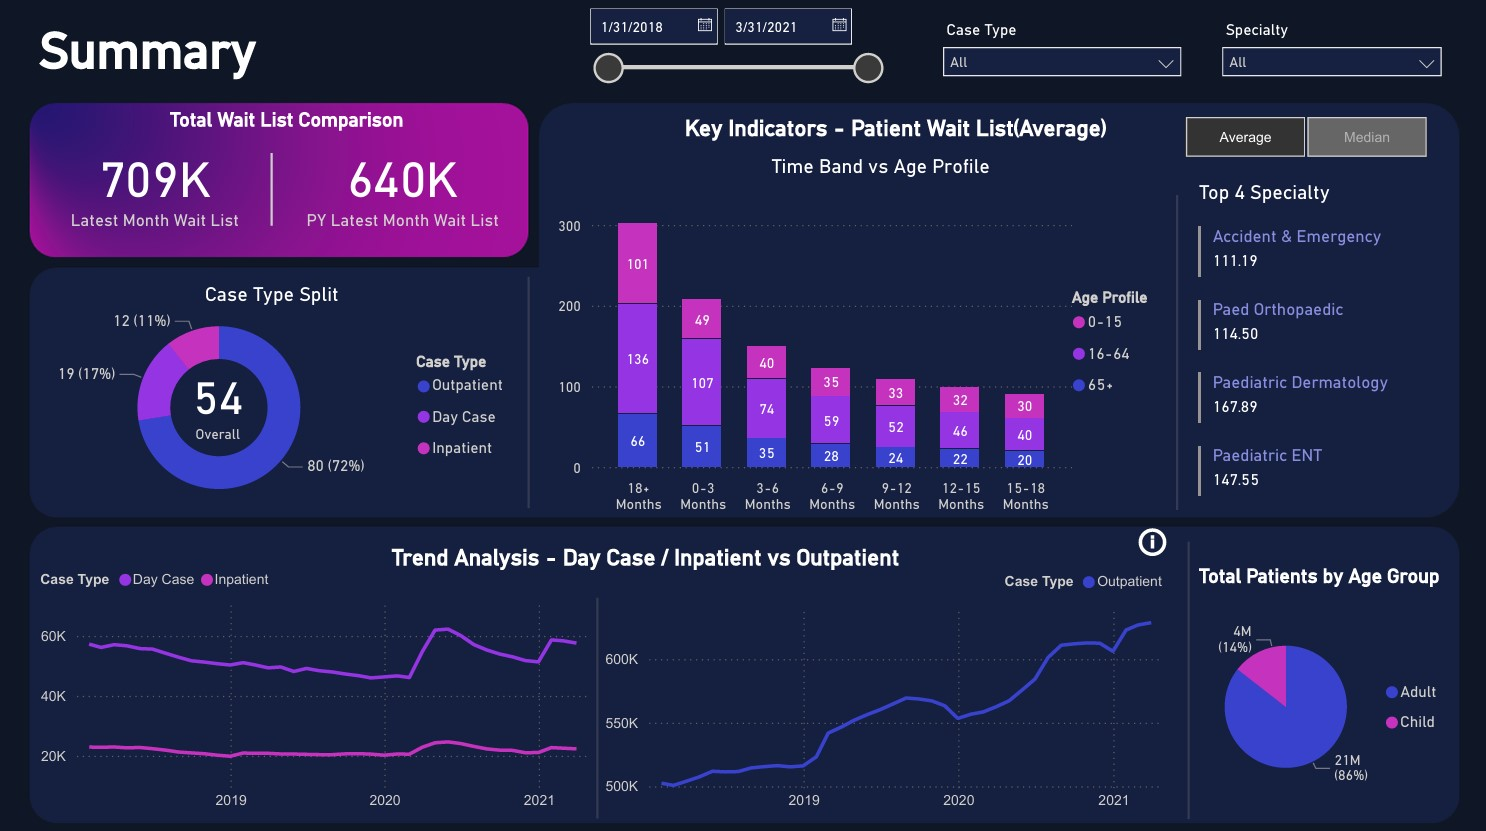

The dashboard page shown, as its layout file describes it:
{"tool":"powerbi","page":{"name":"Summary","canvas":[1280,720],"ordinal":0},"visuals":[{"type":"shape","title":"Shape 5","box":[1007.4,466.4,26.4,239.4],"z":0},{"type":"shape","title":"Shape 4","box":[418.4,513.9,192.2,190.9],"z":1000},{"type":"shape","title":"Shape 3","box":[993,168.9,34.9,271.7],"z":2000},{"type":"shape","title":"Shape 2","box":[431.4,239.1,48.5,200.1],"z":3000},{"type":"shape","title":"Shape 1","box":[214.1,132.9,42.2,64.1],"z":4000},{"type":"card","title":"hide Card 6","fields":{"Values":["All_Data.NoDataLeft"]},"box":[1022.6,512.3,227.2,190.7],"z":5000},{"type":"card","title":"hide Card 5","fields":{"Values":["All_Data.NoDataRight"]},"box":[639.3,514.2,300.1,161],"z":6000},{"type":"card","title":"hide Card 4","fields":{"Values":["All_Data.NoDataLeft"]},"box":[118.4,464.2,300,255.8],"z":7000},{"type":"card","title":"hide Card 3","fields":{"Values":["All_Data.NoDataLeft"]},"box":[1014.9,165.6,240.7,256.1],"z":8000},{"type":"card","title":"hide Card 2","fields":{"Values":["All_Data.NoDataLeft"]},"box":[579.7,175.2,300.4,256.1],"z":9000},{"type":"card","title":"hide Card 1","fields":{"Values":["All_Data.Avg/Med Wait List"]},"box":[144,283,112,128],"z":10000},{"type":"textbox","title":"Total patients text box","box":[1023.8,481.4,225.1,32.8],"z":11000},{"type":"textbox","title":"Trend Text box","box":[309.7,464.1,490.3,32],"z":12000},{"type":"textbox","title":"Top specialty Text box","box":[1024,152,176,32],"z":13000},{"type":"textbox","title":"Timeband vs age Text box","box":[658,129.7,221.9,31.3],"z":14000},{"type":"textbox","title":"Case type split Text box","box":[173.4,239.7,172,32.4],"z":15000},{"type":"card","title":"key ind Card","fields":{"Values":["All_Data.Dynamic Title"]},"box":[531.4,89.1,476.7,46.9],"z":16000},{"type":"textbox","title":"Total waitlist Text box","box":[64,90,368,32],"z":17000},{"type":"slicer","fields":{"Values":["Calculation Method.Calc Method"]},"box":[992,96,256,48],"z":18000},{"type":"slicer","title":"Date Slicer","fields":{"Values":["All_Data.Archive_Date"]},"box":[495.5,0,272,81.3],"z":19000},{"type":"slicer","title":"CT Slicer","fields":{"Values":["All_Data.Case_Type"]},"box":[800.2,15.6,223.5,65.6],"z":20000},{"type":"slicer","title":"Spl Slicer","fields":{"Values":["All_Data.Specialty_Name"]},"box":[1039.4,15.6,207.9,65.6],"z":21000},{"type":"pieChart","title":"Total by Adult/Child","fields":{"Category":["All_Data.Adult_Child"],"Y":["Sum(All_Data.Total)"]},"box":[1014.4,512.7,232.9,190.7],"z":22000},{"type":"lineChart","title":"Sum of Total by Archive Date and Case Type","fields":{"Category":["All_Data.Archive_Date"],"Y":["Sum(All_Data.Total)"],"Series":["All_Data.Case_Type"]},"box":[516.1,481.5,491.1,223.4],"z":23000},{"type":"lineChart","title":"Sum of Total by Archive Date and Case Type","fields":{"Y":["Sum(All_Data.Total)"],"Series":["All_Data.Case_Type"],"Category":["All_Data.Archive_Date"]},"box":[31.8,480,483,224.1],"z":24000},{"type":"multiRowCard","fields":{"Values":["All_Data.Specialty_Name","All_Data.Avg/Med Wait List"]},"box":[1024,192,224,272],"z":25000},{"type":"donutChart","title":"Avg/Med Wait List by Case Type","fields":{"Category":["All_Data.Case_Type"],"Y":["All_Data.Avg/Med Wait List"]},"box":[26.8,256.6,432.9,191.8],"z":26000},{"type":"columnChart","title":"Avg/Med Wait List by Time Bands and Age Profile","fields":{"Category":["All_Data.Time_Bands"],"Y":["All_Data.Avg/Med Wait List"],"Series":["All_Data.Age_Profile"]},"box":[479.8,151.6,528.3,297],"z":27000},{"type":"card","title":"Card 2","fields":{"Values":["All_Data.PY Latest Month Wait List"]},"box":[245.4,112.5,204.8,95.3],"z":28000},{"type":"card","title":"Card 1","fields":{"Values":["All_Data.Latest Month Wait List"]},"box":[39.1,112.5,192.2,95.3],"z":29000},{"type":"textbox","title":"SummaryText box","box":[31.3,15.6,336,67.2],"z":30000},{"type":"actionButton","box":[973.2,450.9,42,32.6],"z":31000}]}

Visuals, with their boxes in screenshot pixels (x1, y1, x2, y2), scaled from the page's 1280x720 canvas onto the 1486x831 screenshot:
"Shape 5" shape: <box>1170,538,1200,815</box>
"Shape 4" shape: <box>486,593,709,813</box>
"Shape 3" shape: <box>1153,195,1193,509</box>
"Shape 2" shape: <box>501,276,557,507</box>
"Shape 1" shape: <box>249,153,298,227</box>
"hide Card 6" card: <box>1187,591,1451,811</box>
"hide Card 5" card: <box>742,593,1091,779</box>
"hide Card 4" card: <box>137,536,486,830</box>
"hide Card 3" card: <box>1178,191,1458,487</box>
"hide Card 2" card: <box>673,202,1022,498</box>
"hide Card 1" card: <box>167,327,297,474</box>
"Total patients text box" textbox: <box>1189,556,1450,593</box>
"Trend Text box" textbox: <box>360,536,929,573</box>
"Top specialty Text box" textbox: <box>1189,175,1393,212</box>
"Timeband vs age Text box" textbox: <box>764,150,1022,186</box>
"Case type split Text box" textbox: <box>201,277,401,314</box>
"key ind Card" card: <box>617,103,1170,157</box>
"Total waitlist Text box" textbox: <box>74,104,502,141</box>
slicer - Calculation Method.Calc Method: <box>1152,111,1449,166</box>
"Date Slicer" slicer: <box>575,0,891,94</box>
"CT Slicer" slicer: <box>929,18,1188,94</box>
"Spl Slicer" slicer: <box>1207,18,1448,94</box>
"Total by Adult/Child" pieChart: <box>1178,592,1448,812</box>
"Sum of Total by Archive Date and Case Type" lineChart: <box>599,556,1169,814</box>
"Sum of Total by Archive Date and Case Type" lineChart: <box>37,554,598,813</box>
multiRowCard - All_Data.Specialty_Name x All_Data.Avg/Med Wait List: <box>1189,222,1449,536</box>
"Avg/Med Wait List by Case Type" donutChart: <box>31,296,534,518</box>
"Avg/Med Wait List by Time Bands and Age Profile" columnChart: <box>557,175,1170,518</box>
"Card 2" card: <box>285,130,523,240</box>
"Card 1" card: <box>45,130,269,240</box>
"SummaryText box" textbox: <box>36,18,426,96</box>
actionButton: <box>1130,520,1179,558</box>
